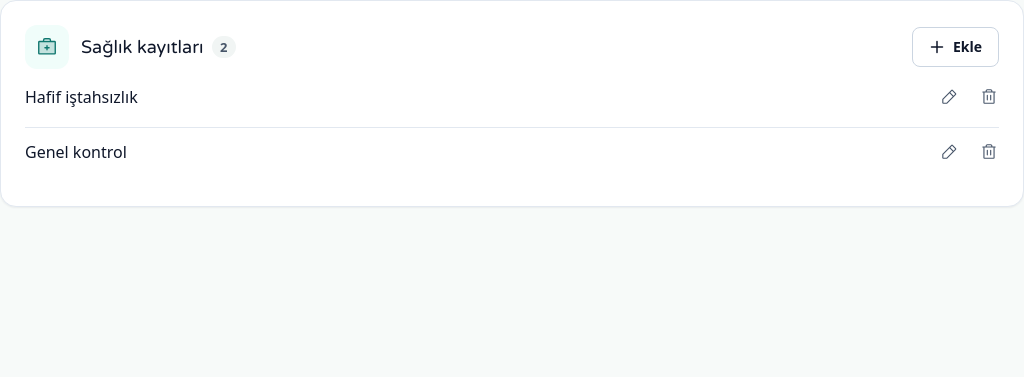
Test: RecordSection › cancelling an edit does not save
The image size is (1024, 377).
What coordinates should you click on to do the following:
click the button named "2026-03-10 tarihli sağlık kaydını düzenle"
I would click on:
 (949, 152)
Its box is [931, 134, 967, 170].
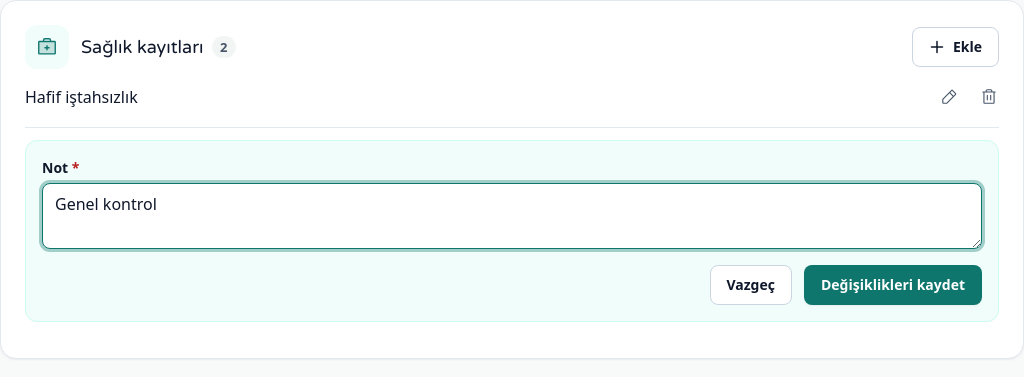
What coordinates should you click on to do the following:
click the button "Vazgeç"
I would click on:
 (751, 285)
Its box is [710, 265, 792, 305].
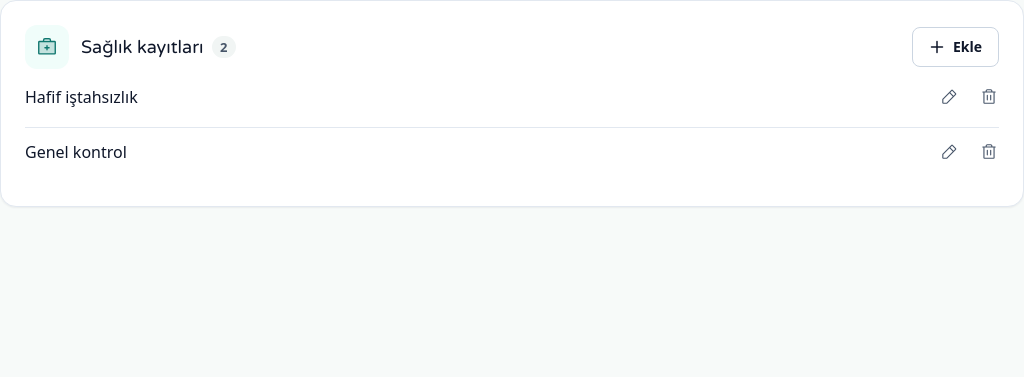
Expected: the text "Genel kontrol" is shown, [25, 141, 127, 163]
